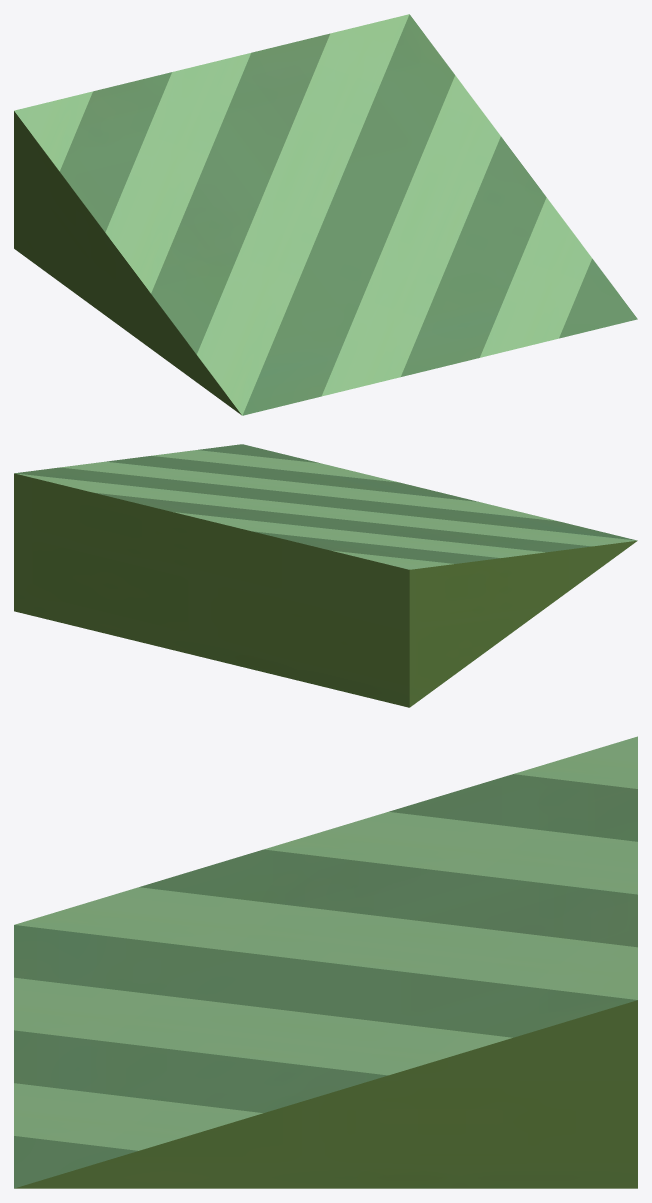
3 views of the same model, one above another, from view 1: azimuth 30°, elevation 25°; view 2: azimuth 150°, elevation 25°; view 3: azimuth 270°, elevation 25° (orthographic). The views are drawn at different scales.
Visible parts, largest first — view 1: Cube_007; view 2: Cube_007; view 3: Cube_007.
Part boxes in pixels (left/top/right/bottom): Cube_007: left=14, top=14, right=637, bottom=415; Cube_007: left=14, top=444, right=637, bottom=707; Cube_007: left=14, top=736, right=637, bottom=1188.
Bounding box in the file's own units: 24 × 8 × 24.
